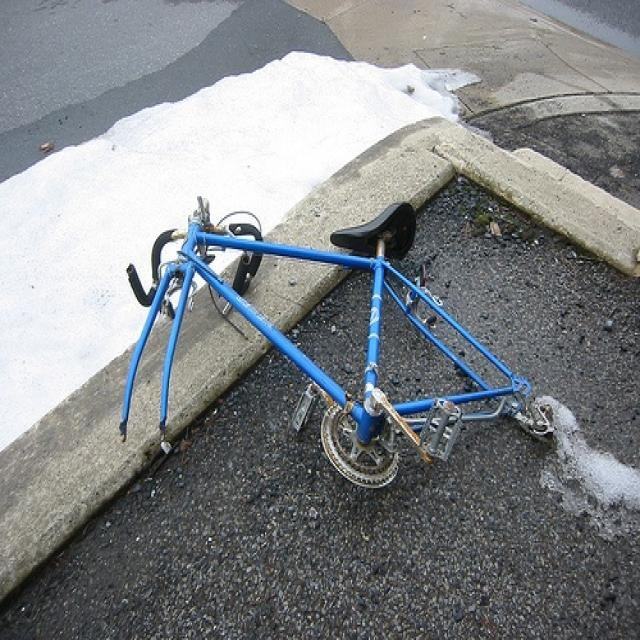bicycle: (118, 194, 556, 492)
